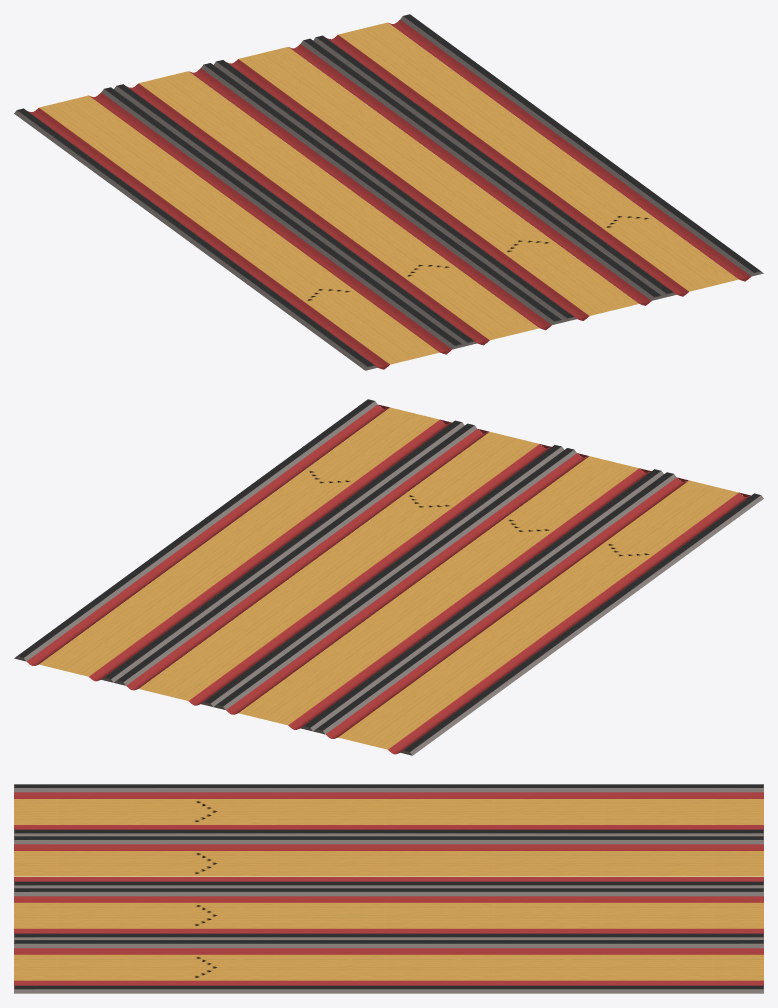
File: GUTTER.fbx
3 renders of one model, top to bottom at view 1: azimuth 30°, elevation 25°; view 2: azimuth 150°, elevation 25°; view 3: azimuth 270°, elevation 25°, orthographic. The views are drawn at different scales.
Parts seen in each view (by area): view 1: Plane.009, Plane.032, Plane.031, Plane.030, Plane.024, Plane.014, Plane.025, Plane.027, Plane.021, Plane.026, Plane.029, Plane.011; view 2: Plane.009, Plane.032, Plane.031, Plane.030, Plane.024, Plane.014, Plane.025, Plane.027, Plane.011, Plane.021, Plane.026, Plane.029; view 3: Plane.032, Plane.009, Plane.030, Plane.031, Plane.011, Plane.021, Plane.026, Plane.029, Plane.025, Plane.027, Plane.024, Plane.014.
Boxes of the visible parts, <box> form: Plane.009: <box>14,87,464,370</box>; Plane.032: <box>313,14,763,297</box>; Plane.031: <box>213,38,663,321</box>; Plane.030: <box>114,63,564,346</box>; Plane.024: <box>90,92,451,352</box>; Plane.014: <box>189,68,551,327</box>; Plane.025: <box>289,44,651,303</box>; Plane.027: <box>389,19,750,279</box>; Plane.021: <box>127,83,489,344</box>; Plane.026: <box>227,59,589,320</box>; Plane.029: <box>326,35,688,294</box>; Plane.011: <box>27,108,389,369</box>; Plane.009: <box>313,472,763,755</box>; Plane.032: <box>14,399,464,682</box>; Plane.031: <box>114,423,564,706</box>; Plane.030: <box>213,448,663,731</box>; Plane.024: <box>326,477,687,738</box>; Plane.014: <box>226,453,588,714</box>; Plane.025: <box>126,429,488,690</box>; Plane.027: <box>26,404,388,665</box>; Plane.011: <box>388,493,750,754</box>; Plane.021: <box>288,468,650,729</box>; Plane.026: <box>188,444,550,705</box>; Plane.029: <box>89,420,451,681</box>; Plane.032: <box>14,940,763,993</box>; Plane.009: <box>14,784,763,836</box>; Plane.030: <box>14,836,763,888</box>; Plane.031: <box>14,888,763,939</box>; Plane.011: <box>14,792,763,798</box>; Plane.021: <box>14,844,763,850</box>; Plane.026: <box>14,896,763,902</box>; Plane.029: <box>14,948,763,954</box>; Plane.025: <box>14,928,763,933</box>; Plane.027: <box>14,980,763,985</box>; Plane.024: <box>14,825,763,829</box>; Plane.014: <box>14,877,763,881</box>.
Bounding box in the file's own units: 8.72 × 0.1353 × 13.3.
